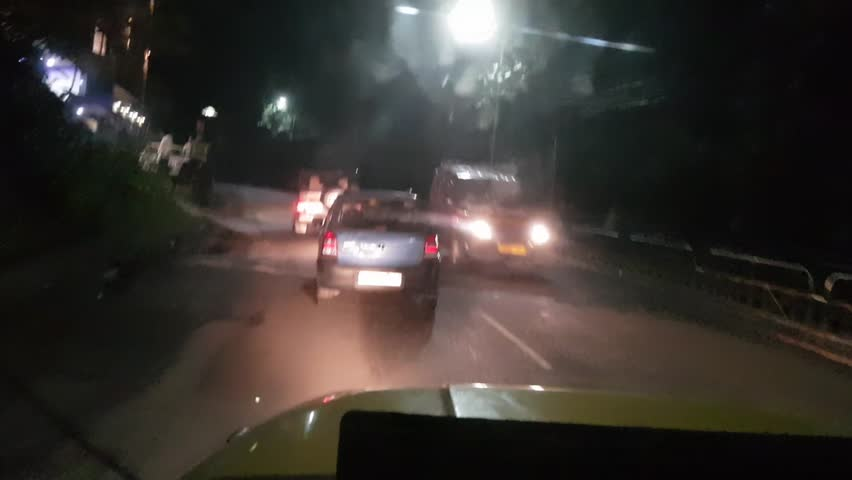car: (321, 193, 437, 322), (439, 163, 550, 284), (292, 170, 349, 235)
